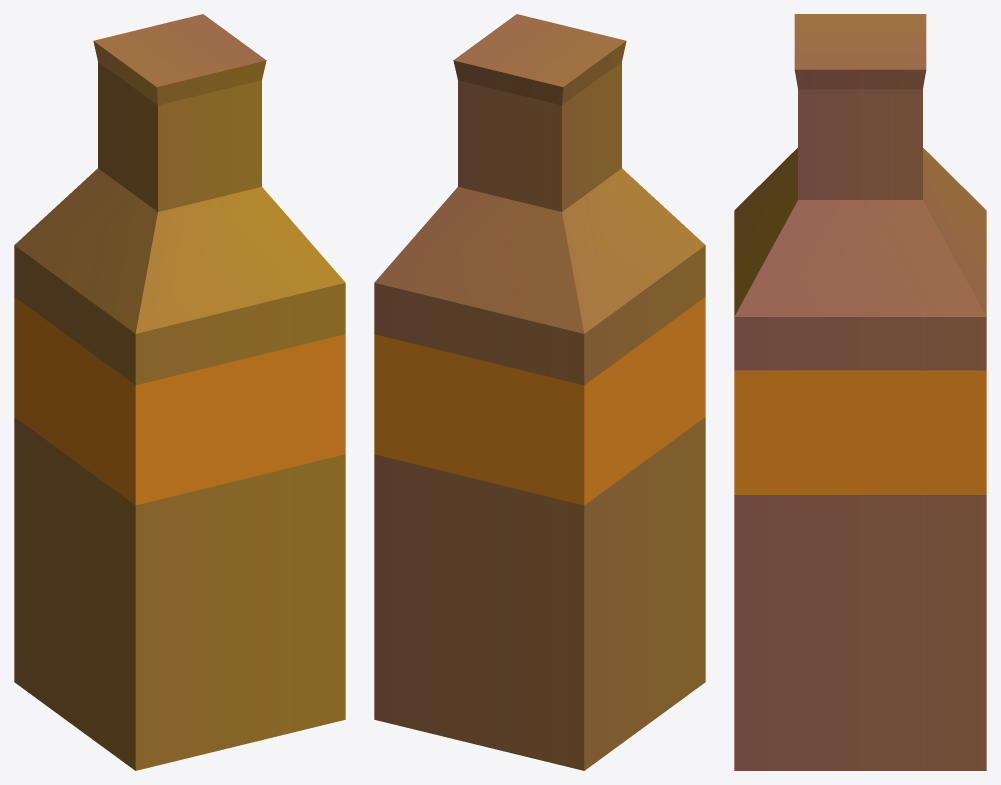
The model's file is B01_bouteille_3_c.fbx.
3 views of the same model, side by side, from view 1: azimuth 30°, elevation 25°; view 2: azimuth 150°, elevation 25°; view 3: azimuth 270°, elevation 25° (orthographic). The views are drawn at different scales.
Visible parts, largest first — view 1: B01_bouteille_3_c; view 2: B01_bouteille_3_c; view 3: B01_bouteille_3_c.
Part boxes in pixels (x1,y1,x2,y2): B01_bouteille_3_c: [14, 14, 345, 770]; B01_bouteille_3_c: [374, 14, 705, 770]; B01_bouteille_3_c: [734, 14, 986, 770].
Bounding box in the file's own units: 8.44 × 24.97 × 8.44.
